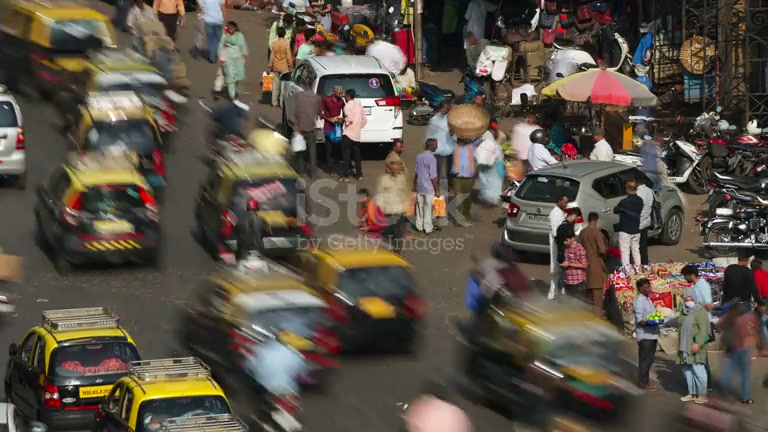car: (180, 259, 345, 393), (497, 157, 687, 261), (5, 308, 143, 430), (293, 234, 427, 354), (270, 54, 406, 160), (32, 163, 160, 273), (93, 356, 246, 430), (0, 90, 26, 187)
motorcycle: (445, 286, 629, 428), (192, 125, 317, 264), (694, 180, 768, 248)
pedestrian: (716, 299, 762, 405), (677, 296, 713, 403), (373, 155, 413, 242), (632, 278, 662, 390), (293, 76, 325, 176), (578, 211, 610, 309), (612, 178, 644, 269), (472, 127, 506, 208), (449, 135, 479, 224), (412, 137, 439, 234), (218, 20, 250, 101), (340, 88, 366, 180), (721, 249, 758, 310), (321, 84, 346, 172), (527, 128, 560, 172), (589, 133, 614, 161)
